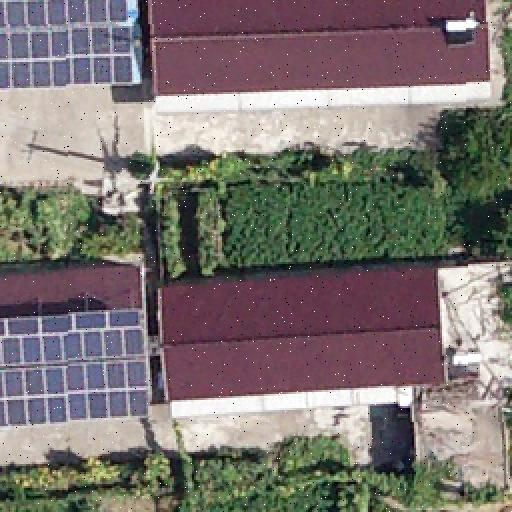solar-panel: (1, 0, 135, 88), (0, 359, 152, 425), (0, 307, 148, 365)
